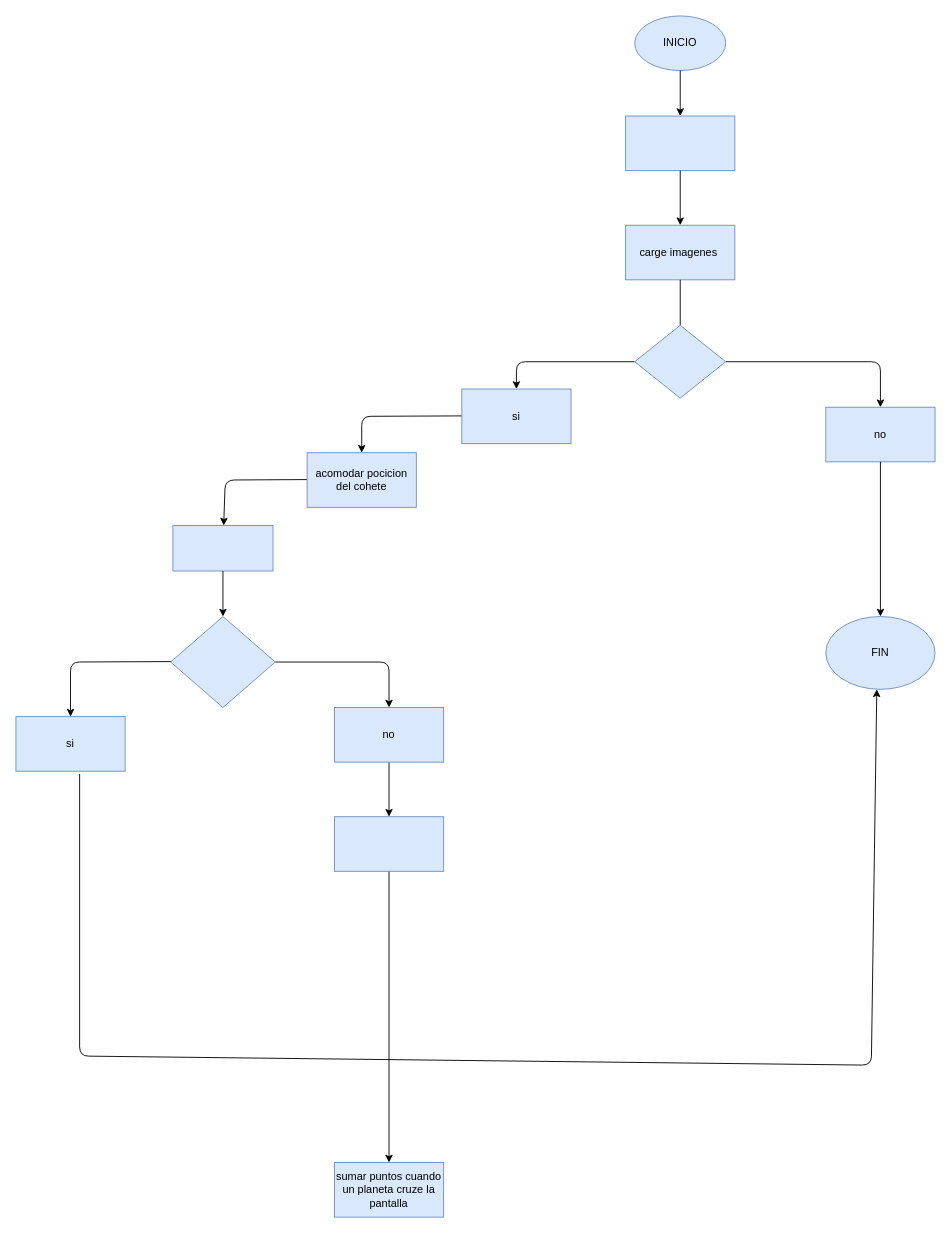
Image size: 951x1233. Some labels were removed from this diagram. The centre of each missing label's shape, as x and y in pixels:
choques con los planetas: the point at 222,662
continua: the point at 389,843
Inicializa Pygame: the point at 680,143
mover planetas hacia abajo: the point at 222,548
¿se inicio el juego?: the point at 680,361
